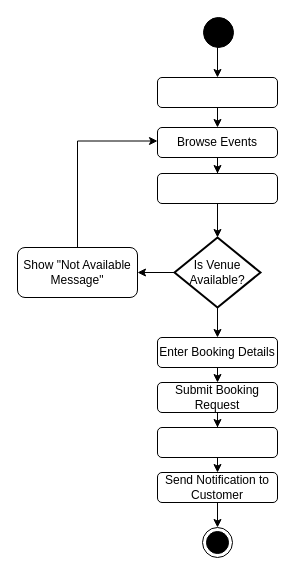
This 295x575 diagram has some shape labels left out. The shapes that lost their labels are listed below. From the top down, each one's box as (x1, y1, x2, y2) in pixels, then its label:
(156, 76, 278, 108): Login to System
(156, 172, 278, 204): Select an Event
(156, 426, 278, 458): System Confirms Booking
